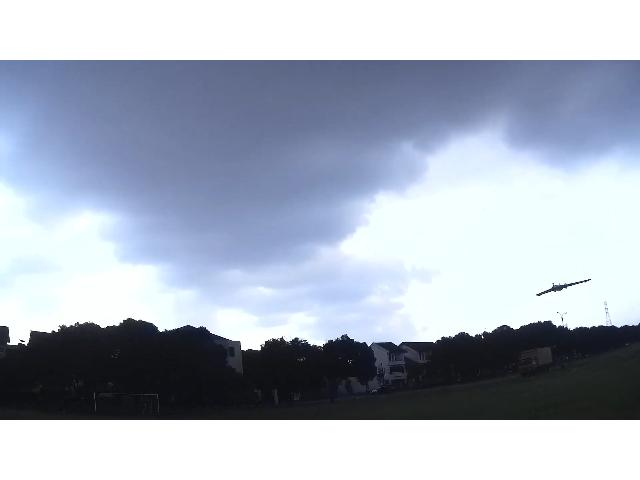Anti-Drone: (534, 278, 592, 296)
